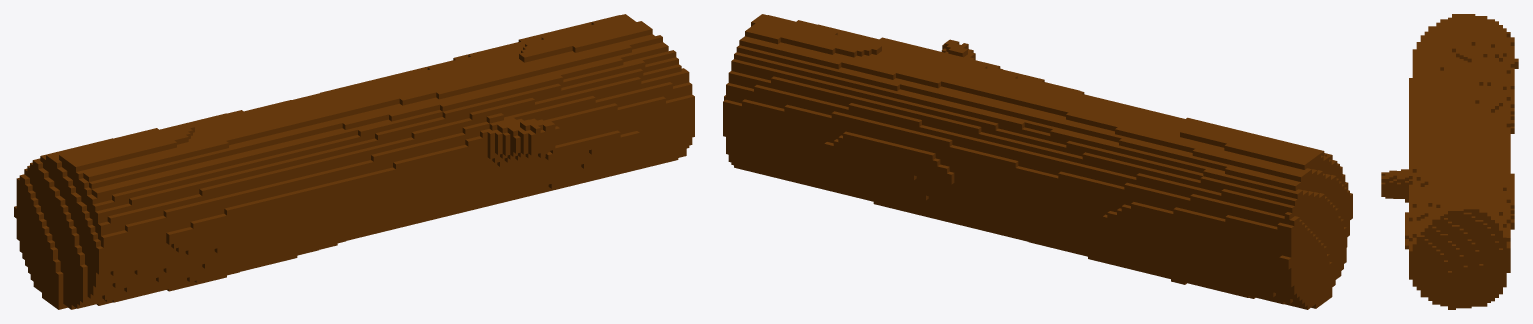
Rendered from Log.obj.
The picture shows the model from 3 angles, left to right: view 1: azimuth 30°, elevation 25°; view 2: azimuth 150°, elevation 25°; view 3: azimuth 270°, elevation 25°; orthographic projection. The views are drawn at different scales.
Parts seen in each view (by area): view 1: Log; view 2: Log; view 3: Log.
Boxes of the visible parts, left/top/right/bottom form: Log: left=14, top=14, right=694, bottom=309; Log: left=723, top=14, right=1352, bottom=309; Log: left=1381, top=14, right=1518, bottom=309.
Size of the model in its own units: 125 by 28 by 35.
